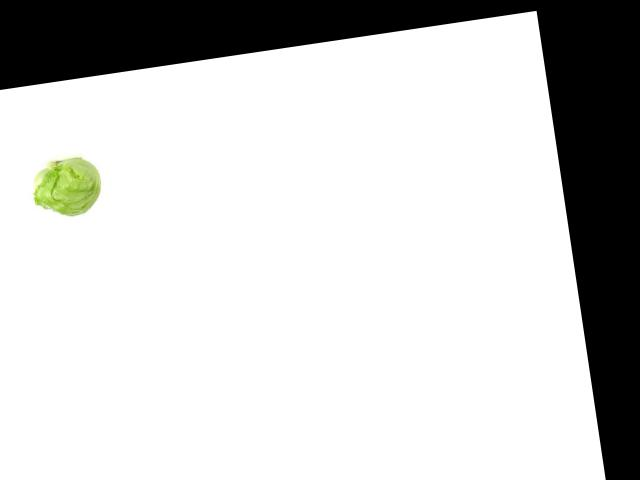lettuce: (21, 153, 112, 228)
